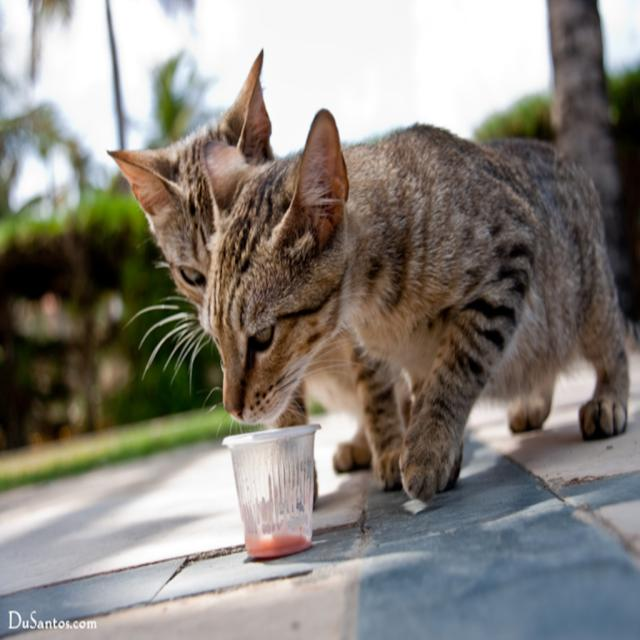Cat: (196, 104, 633, 510), (100, 41, 418, 492)
